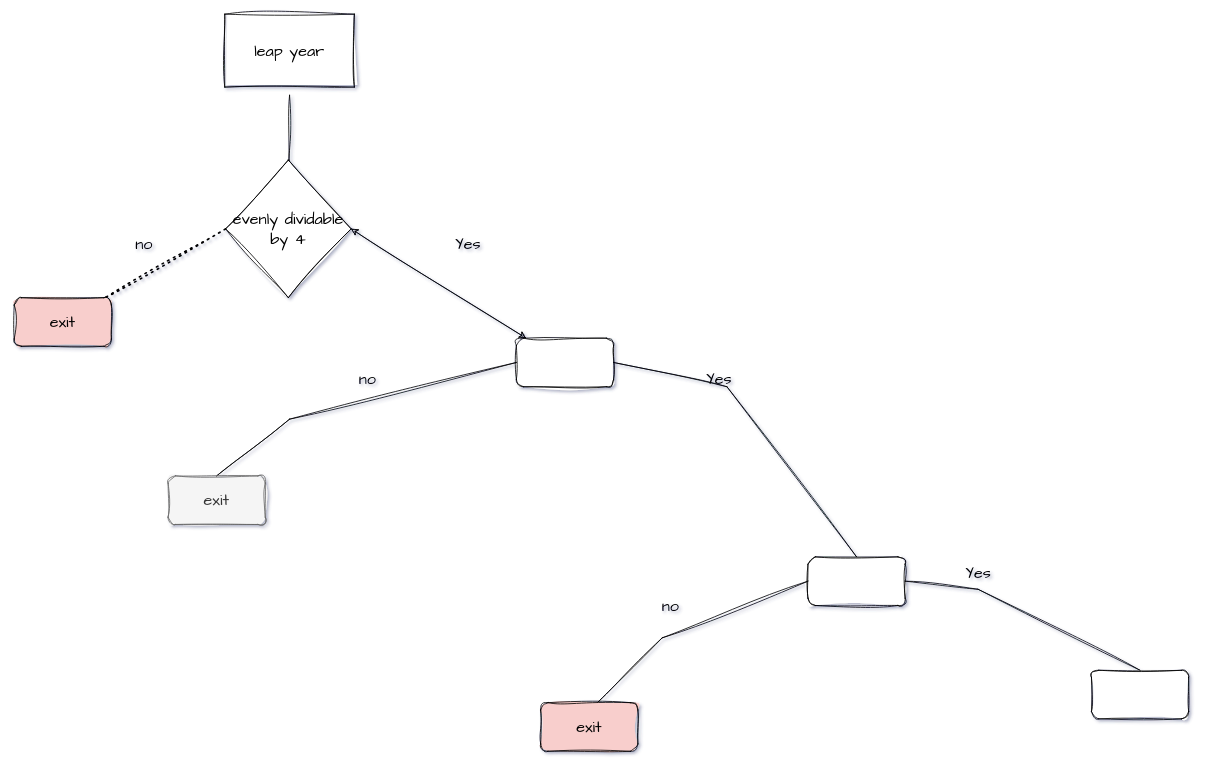
This 1208x770 diagram has some shape labels left out. Each missing label, with the centre of its shape:
evenly / by 100: the point at 565,362
Evenly /by 400: the point at 856,580
